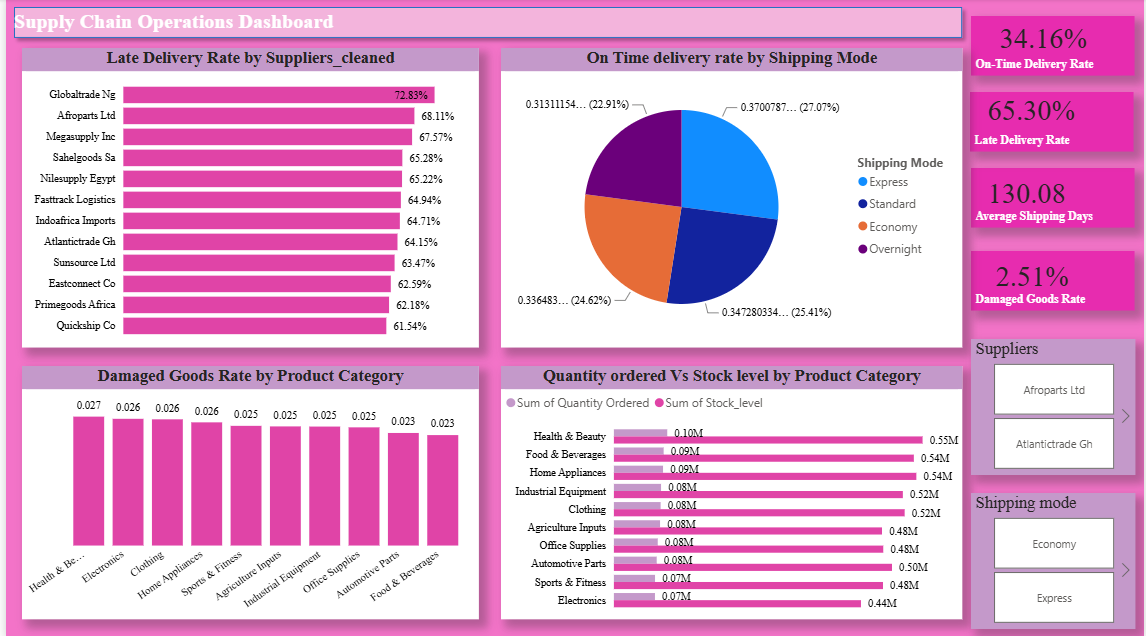

The page's visual inventory and layout, read from the dashboard file:
{"tool":"powerbi","page":{"name":"Page 1","canvas":[1280,720],"ordinal":0},"visuals":[{"type":"shape","box":[1085.9,19.3,183.8,66.8],"z":0},{"type":"shape","box":[1085.9,284,183.8,66.8],"z":1000},{"type":"shape","box":[1085.9,190.2,183.8,66.8],"z":2000},{"type":"shape","box":[1084.7,104.1,183.8,66.8],"z":3000},{"type":"shape","box":[0,0,1084.7,52.7],"z":4000},{"type":"cardVisual","fields":{"Data":["Calender.On Time delivery rate"]},"box":[1088.5,0,179.9,86.1],"z":5000},{"type":"cardVisual","fields":{"Data":["Calender.Damaged Goods Rate"]},"box":[1084.7,264.7,161.9,93.8],"z":6000},{"type":"cardVisual","fields":{"Data":["Calender.Late Delivery Rate"]},"box":[1075.7,77.1,161.9,93.8],"z":7000},{"type":"cardVisual","fields":{"Data":["Calender.Average Shipping Days"]},"box":[1075.7,170.9,161.9,93.8],"z":8000},{"type":"barChart","fields":{"Y":["Calender.Late Delivery Rate"],"Category":["Sales.Suppliers_cleaned"]},"box":[18,55.3,514.1,336.7],"z":9000},{"type":"pieChart","fields":{"Y":["Calender.On Time delivery rate"],"Category":["Sales.Shipping Mode"]},"box":[556.5,55.3,519.2,336.7],"z":10000},{"type":"clusteredBarChart","title":"Quantity ordered Vs Stock level by Product Category","fields":{"Y":["Sum(Sales.Quantity Ordered)","Sum(Sales.Stock_level)"],"Category":["Product.Product Category"]},"box":[556.5,412.5,519.2,285.3],"z":11000},{"type":"columnChart","fields":{"Category":["Product.Product Category"],"Y":["Calender.Damaged Goods Rate"]},"box":[18,413,514,285],"z":12000},{"type":"slicer","title":"Suppliers","fields":{"Values":["Sales.Suppliers_cleaned"]},"box":[1085.1,382.9,185.2,153.4],"z":12001},{"type":"slicer","title":"Shipping mode","fields":{"Values":["Shipment.Shipping Mode"]},"box":[1085.1,555.7,185.2,153.4],"z":12002}]}

Visuals, with their boxes in screenshot pixels (x1, y1, x2, y2), scaled from the page's 1280x720 canvas onto the 1146x636 screenshot:
shape: BBox(972, 17, 1137, 76)
shape: BBox(972, 251, 1137, 310)
shape: BBox(972, 168, 1137, 227)
shape: BBox(971, 92, 1136, 151)
shape: BBox(0, 0, 971, 47)
cardVisual - Calender.On Time delivery rate: BBox(975, 0, 1136, 76)
cardVisual - Calender.Damaged Goods Rate: BBox(971, 234, 1116, 317)
cardVisual - Calender.Late Delivery Rate: BBox(963, 68, 1108, 151)
cardVisual - Calender.Average Shipping Days: BBox(963, 151, 1108, 234)
barChart - Calender.Late Delivery Rate x Sales.Suppliers_cleaned: BBox(16, 49, 476, 346)
pieChart - Calender.On Time delivery rate x Sales.Shipping Mode: BBox(498, 49, 963, 346)
"Quantity ordered Vs Stock level by Product Category" clusteredBarChart: BBox(498, 364, 963, 616)
columnChart - Product.Product Category x Calender.Damaged Goods Rate: BBox(16, 365, 476, 617)
"Suppliers" slicer: BBox(972, 338, 1137, 474)
"Shipping mode" slicer: BBox(972, 491, 1137, 626)
